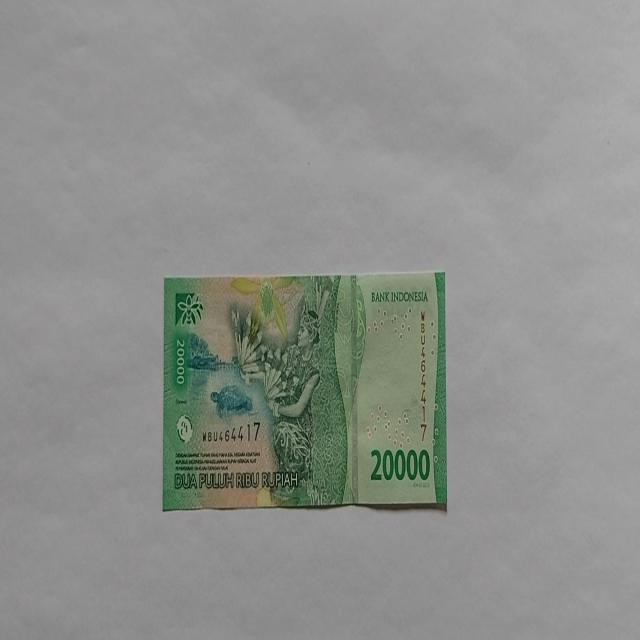dua puluh ribu rupiah: (162, 270, 448, 512), (230, 274, 366, 506)
